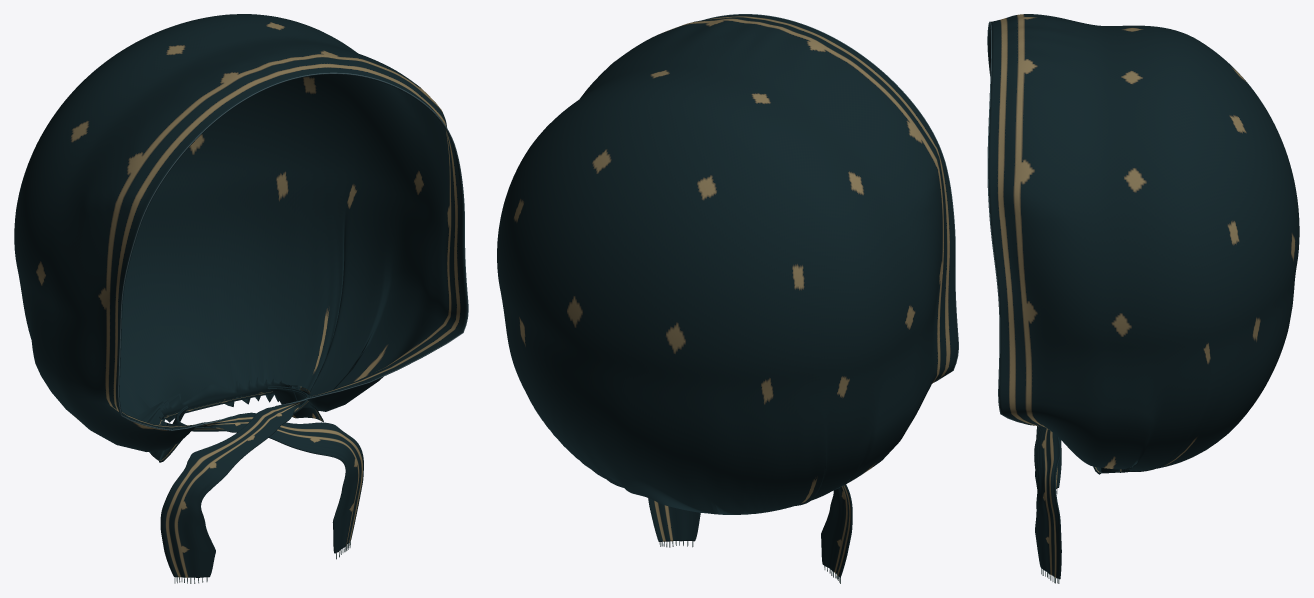
The model's file is Masculine-curly-top-shirtless-pashmina250-headgear.glb.
3 views of the same model, side by side, from view 1: azimuth 30°, elevation 25°; view 2: azimuth 150°, elevation 25°; view 3: azimuth 270°, elevation 25° (orthographic). The views are drawn at different scales.
Parts seen in each view (by area): view 1: 226 headgear / Headwear / continuous woven pashmina239, 226 headgear / Headwear / face edge239; view 2: 226 headgear / Headwear / continuous woven pashmina239, 226 headgear / Headwear / face edge239; view 3: 226 headgear / Headwear / continuous woven pashmina239, 226 headgear / Headwear / face edge239.
Boxes of the visible parts, x1,y1,x2,y2 form: 226 headgear / Headwear / continuous woven pashmina239: (14,14,467,577); 226 headgear / Headwear / face edge239: (118,72,468,430); 226 headgear / Headwear / continuous woven pashmina239: (497,14,957,577); 226 headgear / Headwear / face edge239: (702,14,958,382); 226 headgear / Headwear / continuous woven pashmina239: (988,14,1299,579); 226 headgear / Headwear / face edge239: (987,21,1033,425).
Bounding box in the file's own units: 1.07 × 1.41 × 0.7828.
3 materials, 1 textured.
